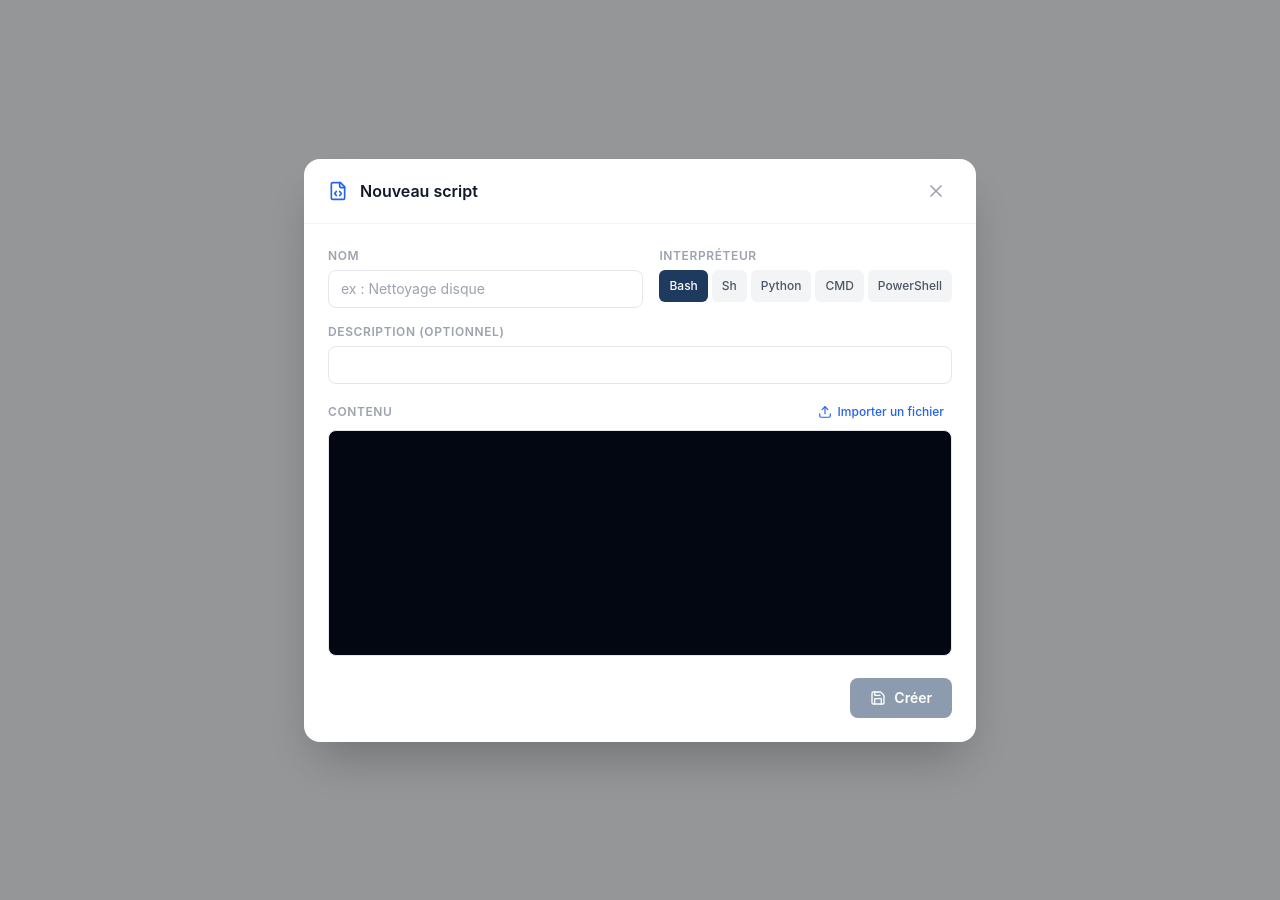
Scenario: ScriptFormModal — création › affiche l'erreur retournée par l'API sans fermer la modale
Type "Doublon" into the field with placeholder "ex : Nettoyage disque" at x=486, y=288, box [328,270,643,308]
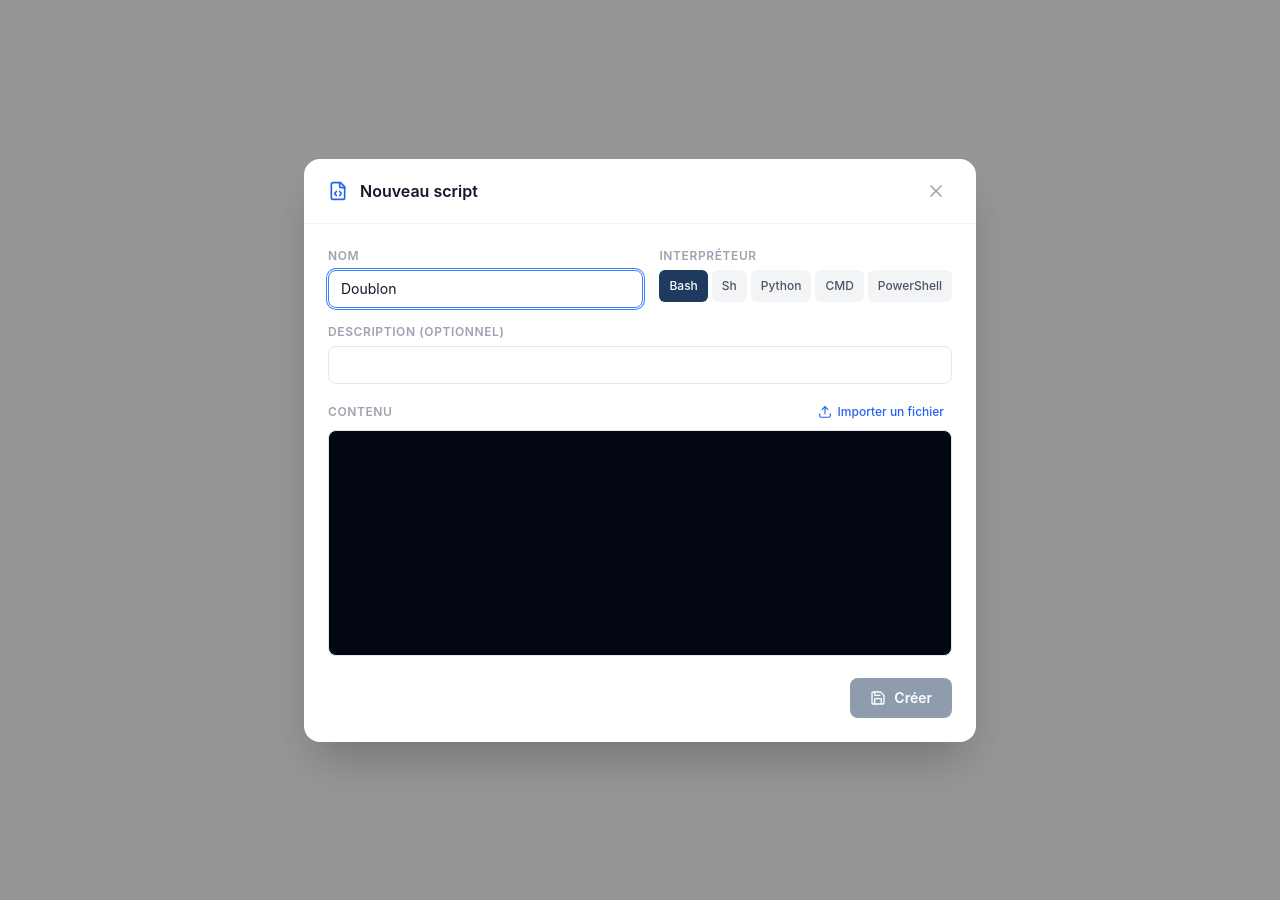
Type "echo hi" into the text box at x=640, y=542, box [328,430,952,656]
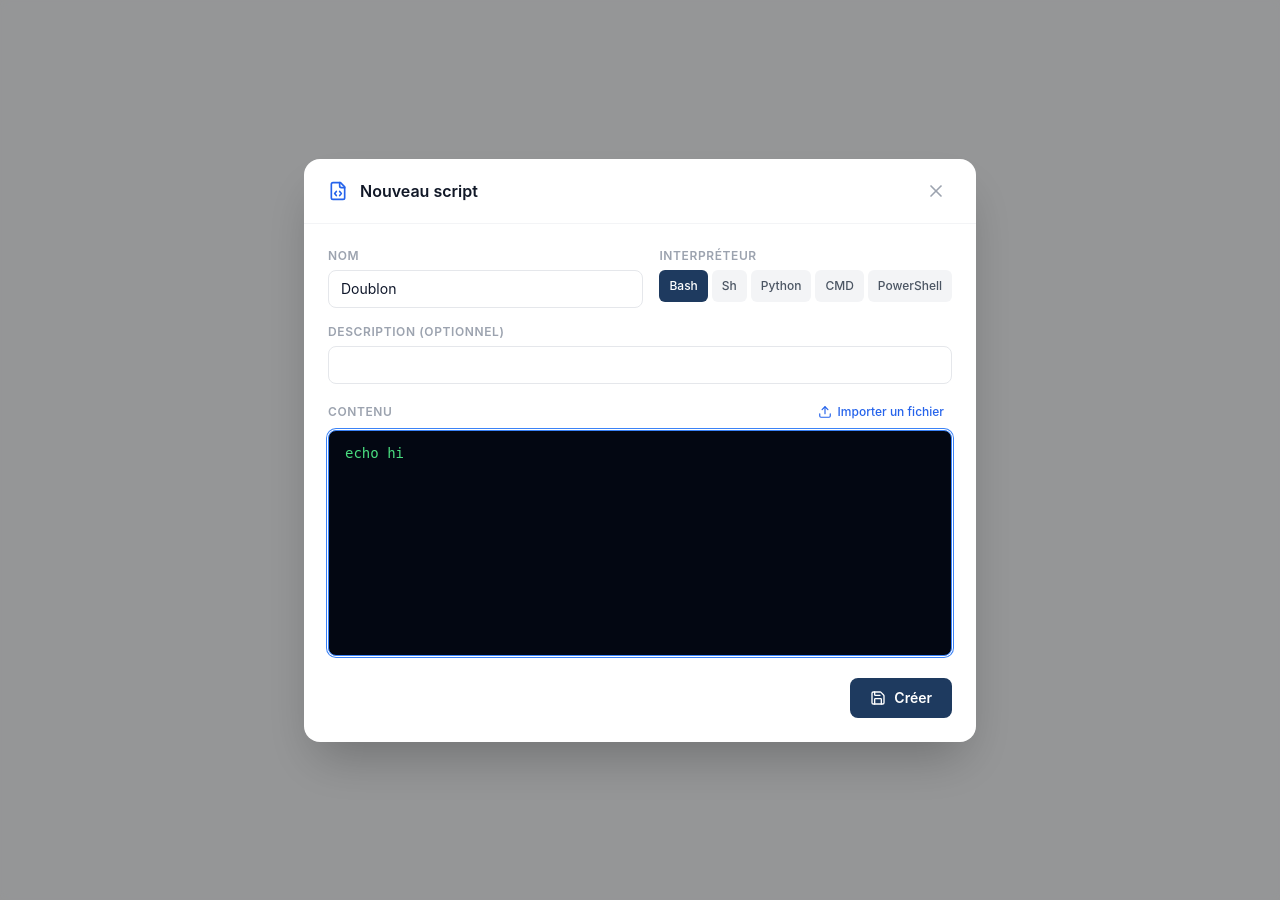
Click the button "Créer" at x=901, y=698, box [850,678,952,718]
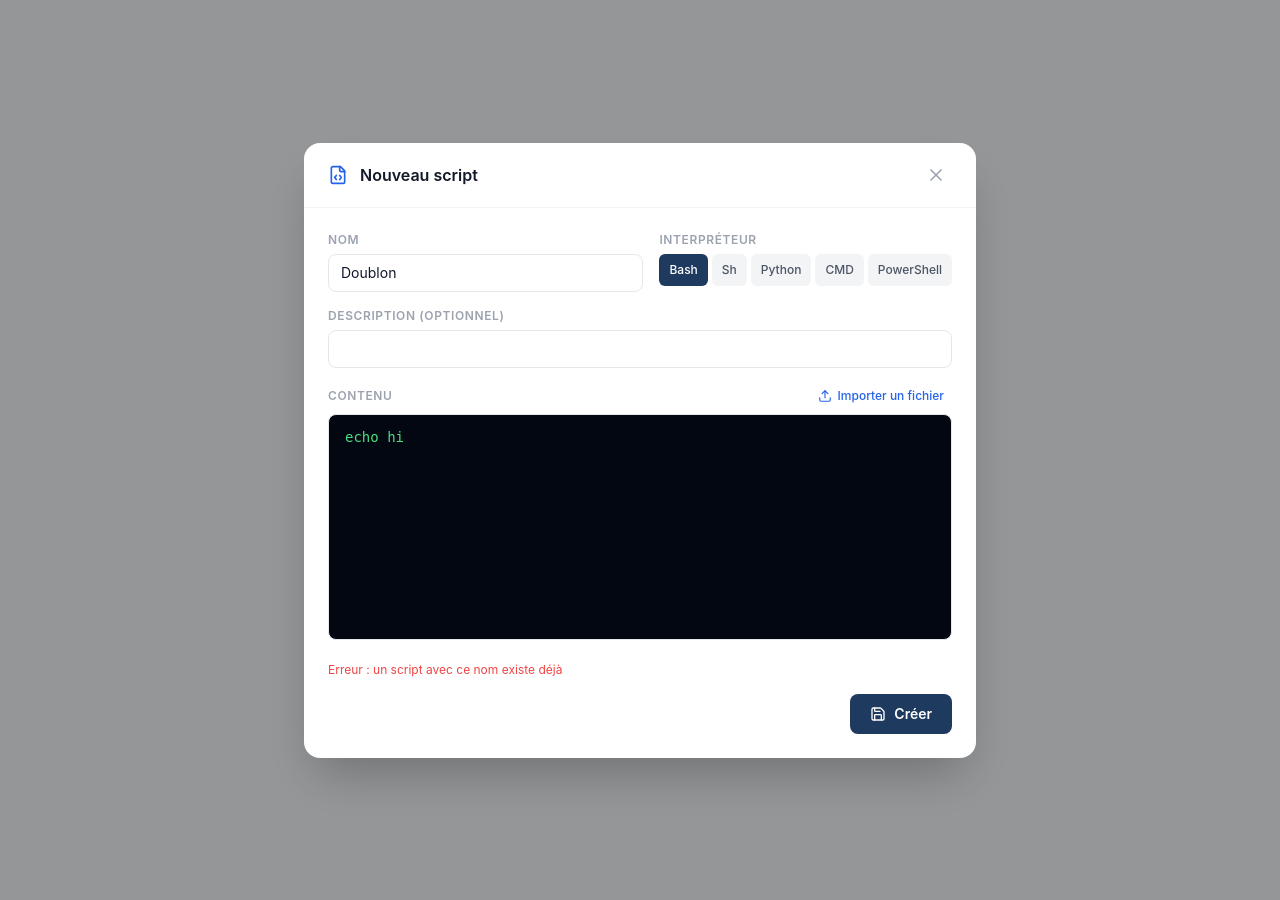
Check: the text "Erreur : un script avec ce nom existe déjà" is shown, box [328,662,562,676]
